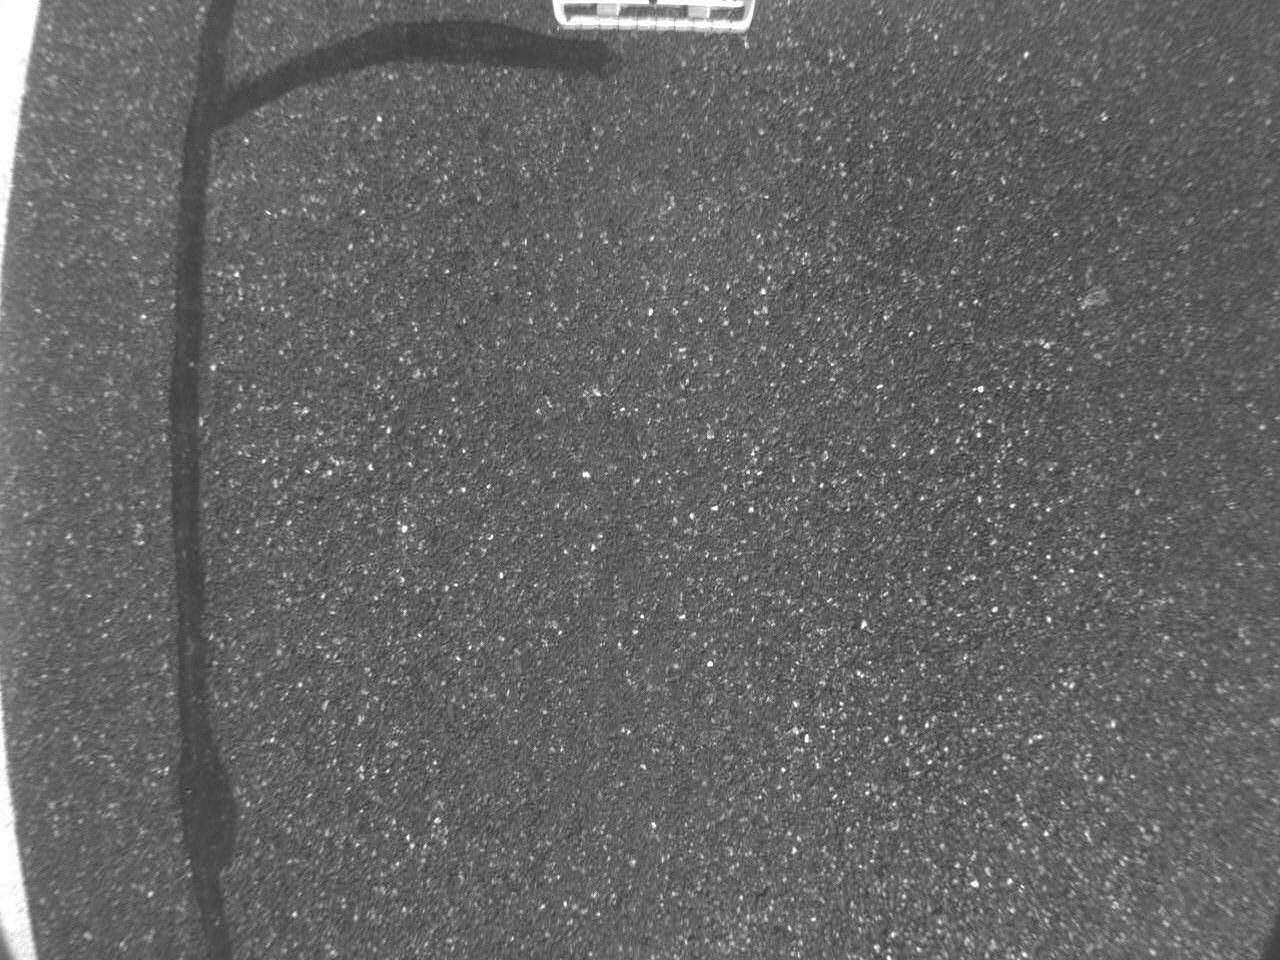sealed: (142, 1, 640, 955)
